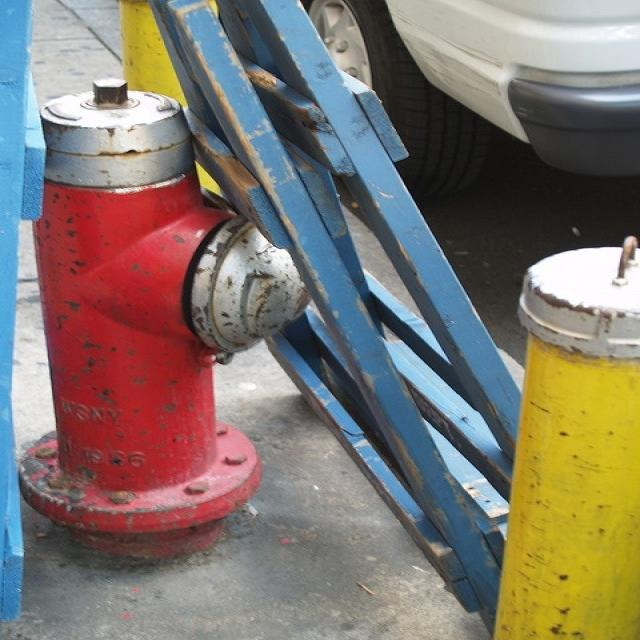fire_hydrant: (8, 57, 286, 562), (493, 223, 627, 640)
